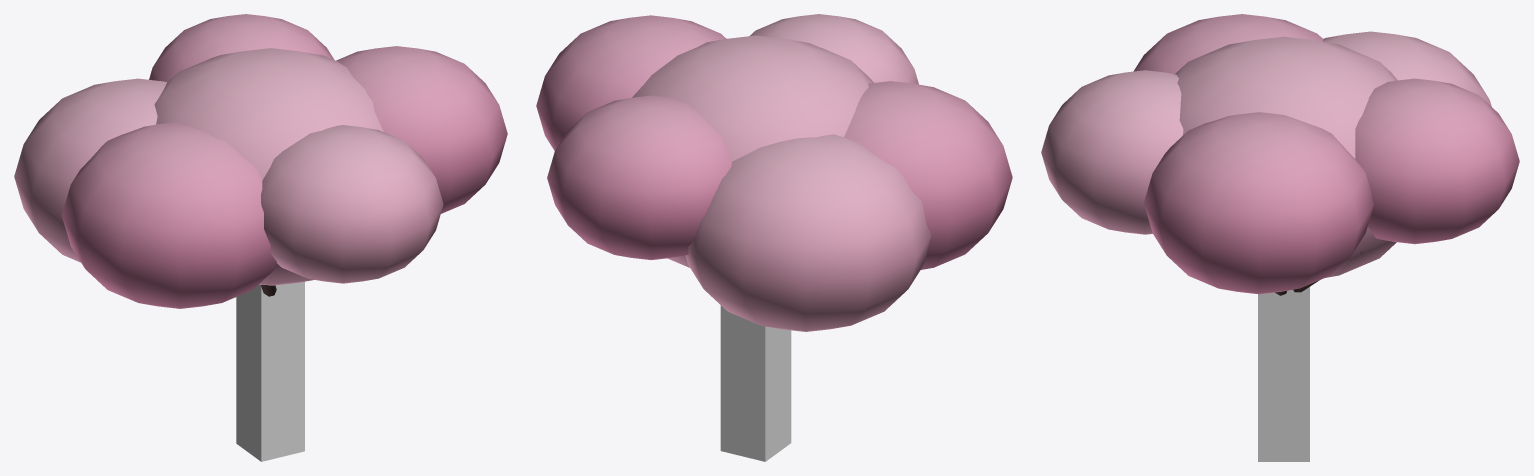
Rendered from cerezo.glb.
3 views of the same model, side by side, from view 1: azimuth 30°, elevation 25°; view 2: azimuth 150°, elevation 25°; view 3: azimuth 270°, elevation 25° (orthographic). The views are drawn at different scales.
Visible parts, largest first — view 1: cerezo_Malla, COL_0; view 2: cerezo_Malla, COL_0; view 3: cerezo_Malla, COL_0.
Part boxes in pixels (x1,y1,x2,y2): cerezo_Malla: [14, 14, 507, 308]; COL_0: [236, 281, 304, 461]; cerezo_Malla: [536, 14, 1012, 331]; COL_0: [720, 305, 791, 461]; cerezo_Malla: [1041, 14, 1519, 295]; COL_0: [1258, 287, 1309, 461].
Bounding box in the file's own units: 5.85 × 5.05 × 5.52.
